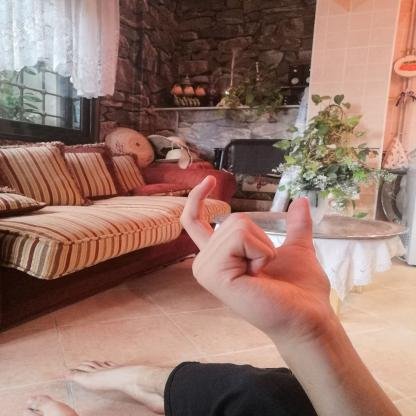NOON: (161, 167, 346, 348)
